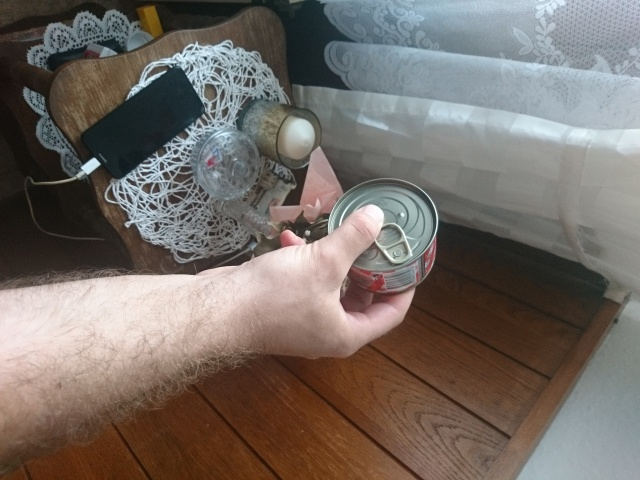Podravka Luncheon Meat 150g: (324, 174, 442, 298)
